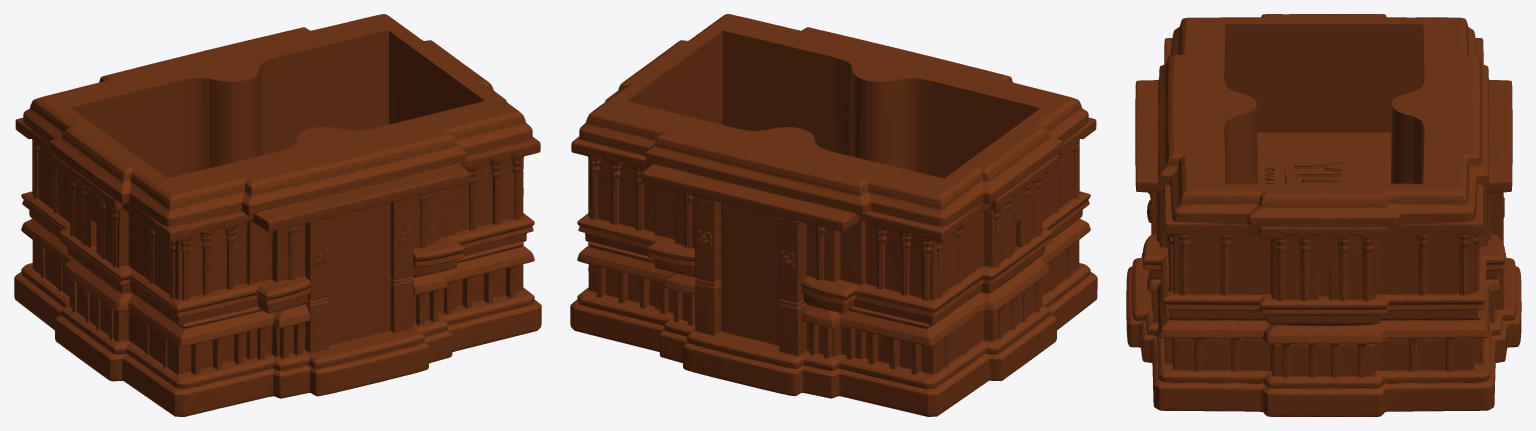
File: gopuram_base-optimized.glb
The picture shows the model from 3 angles, left to right: view 1: azimuth 30°, elevation 25°; view 2: azimuth 150°, elevation 25°; view 3: azimuth 270°, elevation 25°; orthographic projection. The views are drawn at different scales.
Parts seen in each view (by area): view 1: small_gopuram.031; view 2: small_gopuram.031; view 3: small_gopuram.031.
Part boxes in pixels (x1,y1,x2,y2): small_gopuram.031: (14, 14, 541, 416); small_gopuram.031: (570, 14, 1097, 416); small_gopuram.031: (1126, 14, 1521, 416).
Bounding box in the file's own units: 52.02 × 26.61 × 44.17.
